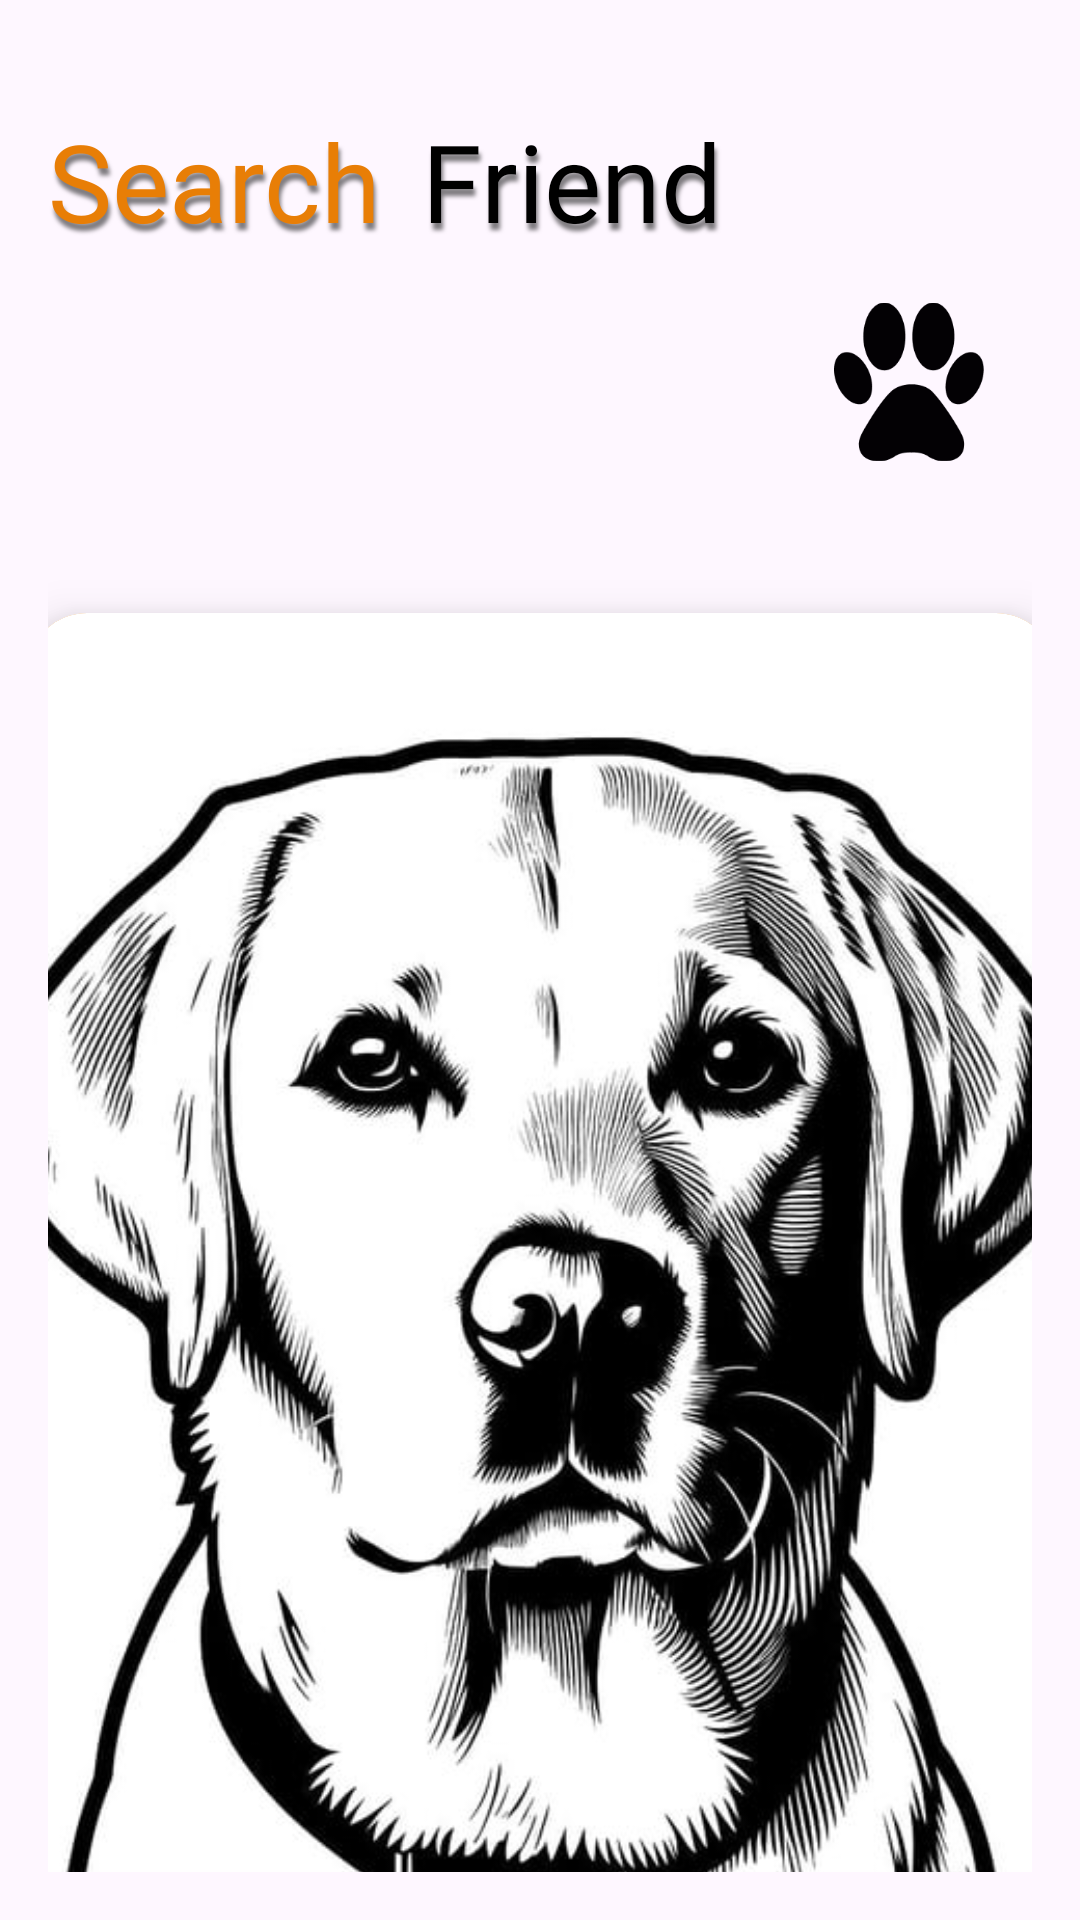

Named icons in this screenshot (1080px x 1920px) and their bounding boxes, (x1, y1, x2, y2):
paw: (834, 303, 984, 461)
